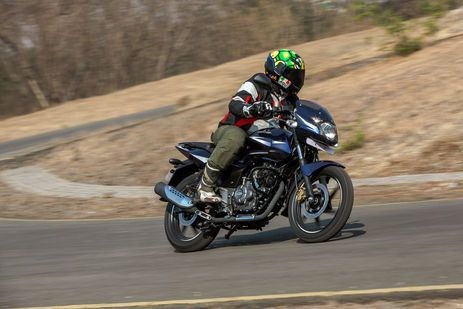helmet: (265, 48, 305, 91)
